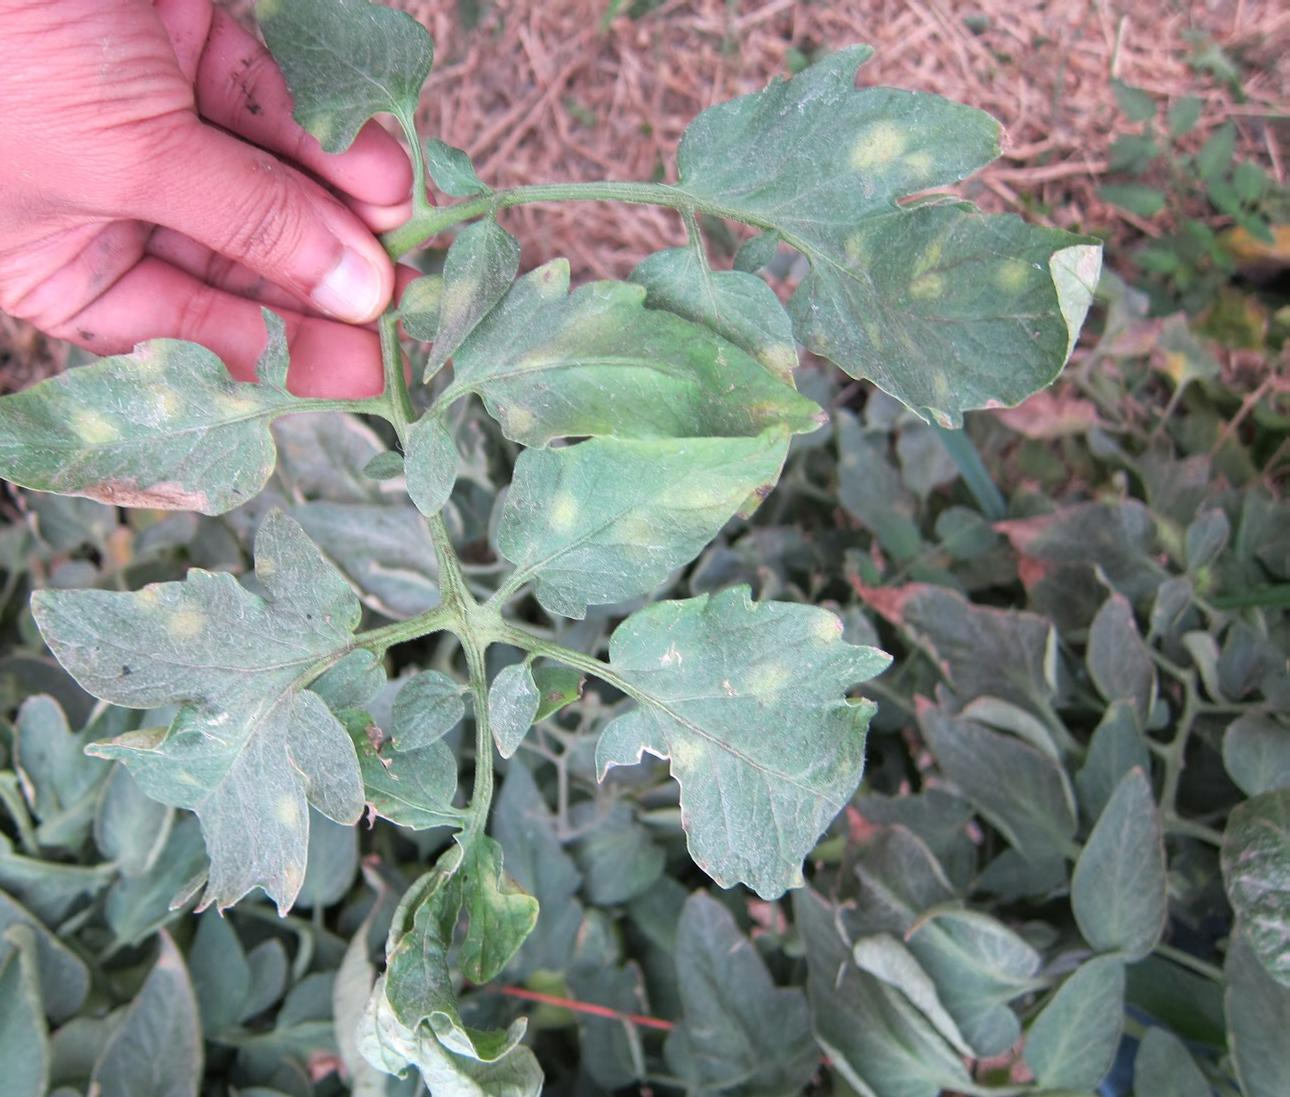Tomato mold leaf: (21, 525, 372, 930), (583, 582, 899, 898), (785, 197, 1141, 449), (503, 335, 812, 620), (423, 223, 844, 426), (624, 47, 1076, 232), (0, 318, 292, 557), (355, 836, 555, 1097), (238, 0, 453, 163)
